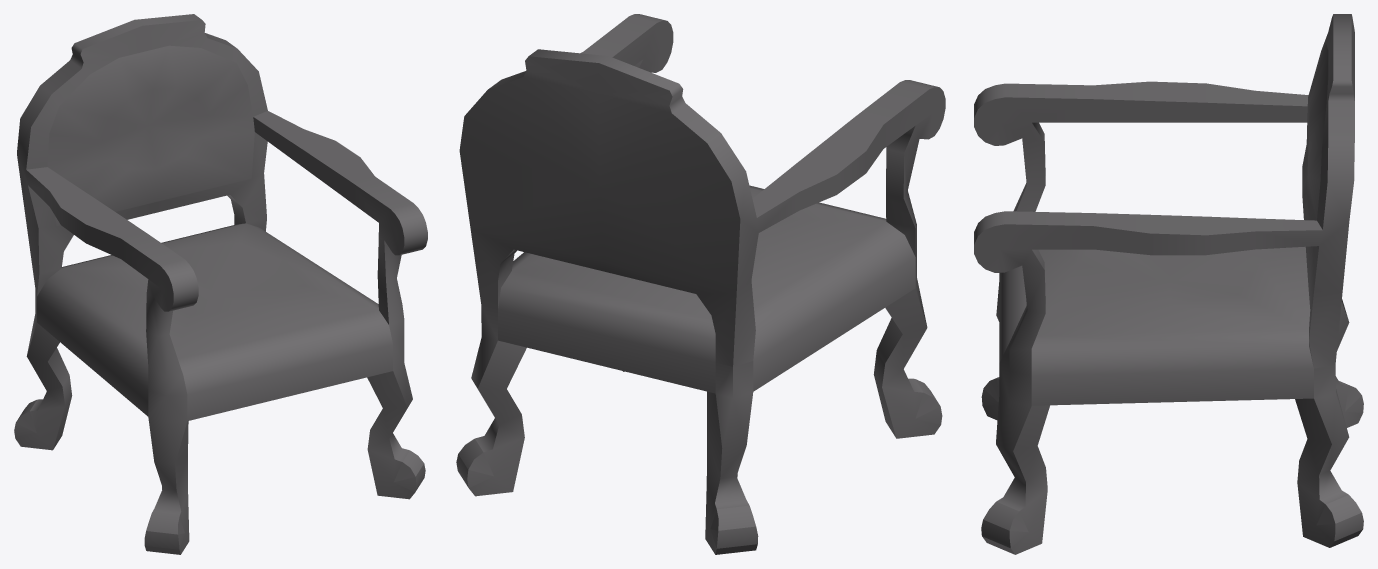
File: armchair_alt_exotic.dae
3 renders of one model, left to right at view 1: azimuth 30°, elevation 25°; view 2: azimuth 150°, elevation 25°; view 3: azimuth 270°, elevation 25°, orthographic. The views are drawn at different scales.
Visible parts, largest first — view 1: polySurface2; view 2: polySurface2; view 3: polySurface2.
Part boxes in pixels (box(x1,y1,x2,y2)): polySurface2: box(14, 14, 427, 554); polySurface2: box(456, 14, 945, 554); polySurface2: box(974, 14, 1363, 554).
Size of the model in its own units: 0.8843 by 1.17 by 0.9366.
Materials: 1 (1 with a texture image).
